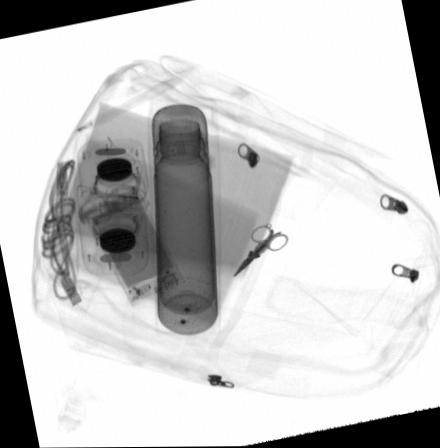Powerbank: (77, 174, 185, 309)
Scissors: (228, 225, 288, 279)
